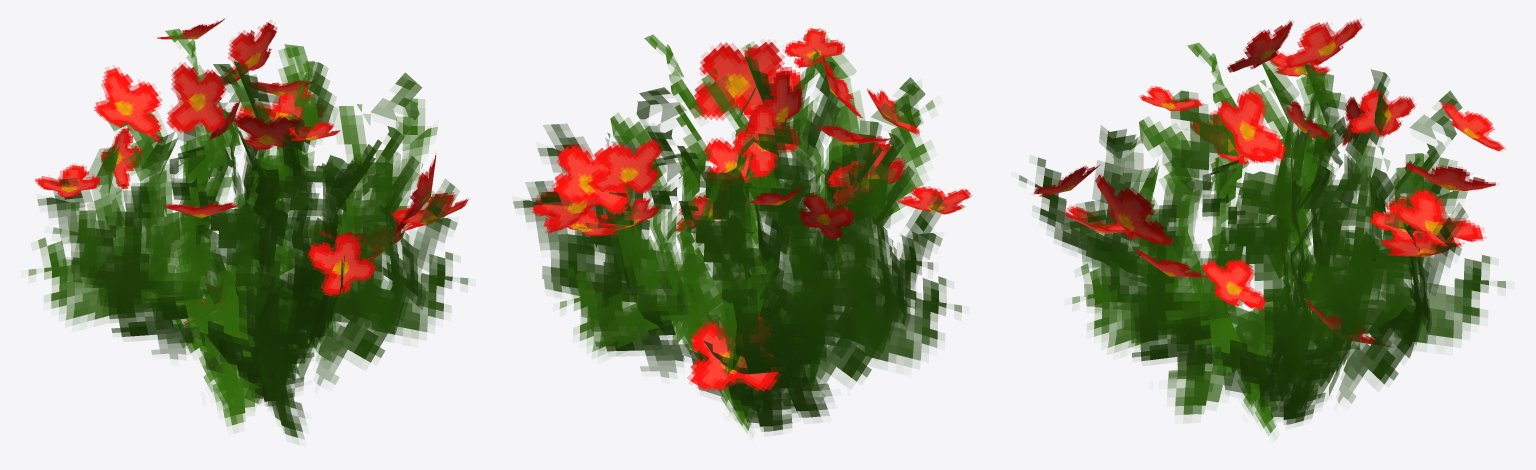
Rendered from flor.glb.
The picture shows the model from 3 angles, left to right: view 1: azimuth 30°, elevation 25°; view 2: azimuth 150°, elevation 25°; view 3: azimuth 270°, elevation 25°; orthographic projection. The views are drawn at different scales.
Visible parts, largest first — view 1: Plane.008; view 2: Plane.008; view 3: Plane.008.
Boxes of the visible parts, x1=… form: Plane.008: x1=28, y1=18, x2=468, y2=439; Plane.008: x1=513, y1=28, x2=972, y2=433; Plane.008: x1=1019, y1=18, x2=1505, y2=435.
Size of the model in its own units: 1.79 by 1.55 by 1.85.
Materials: 1 (1 with a texture image).
